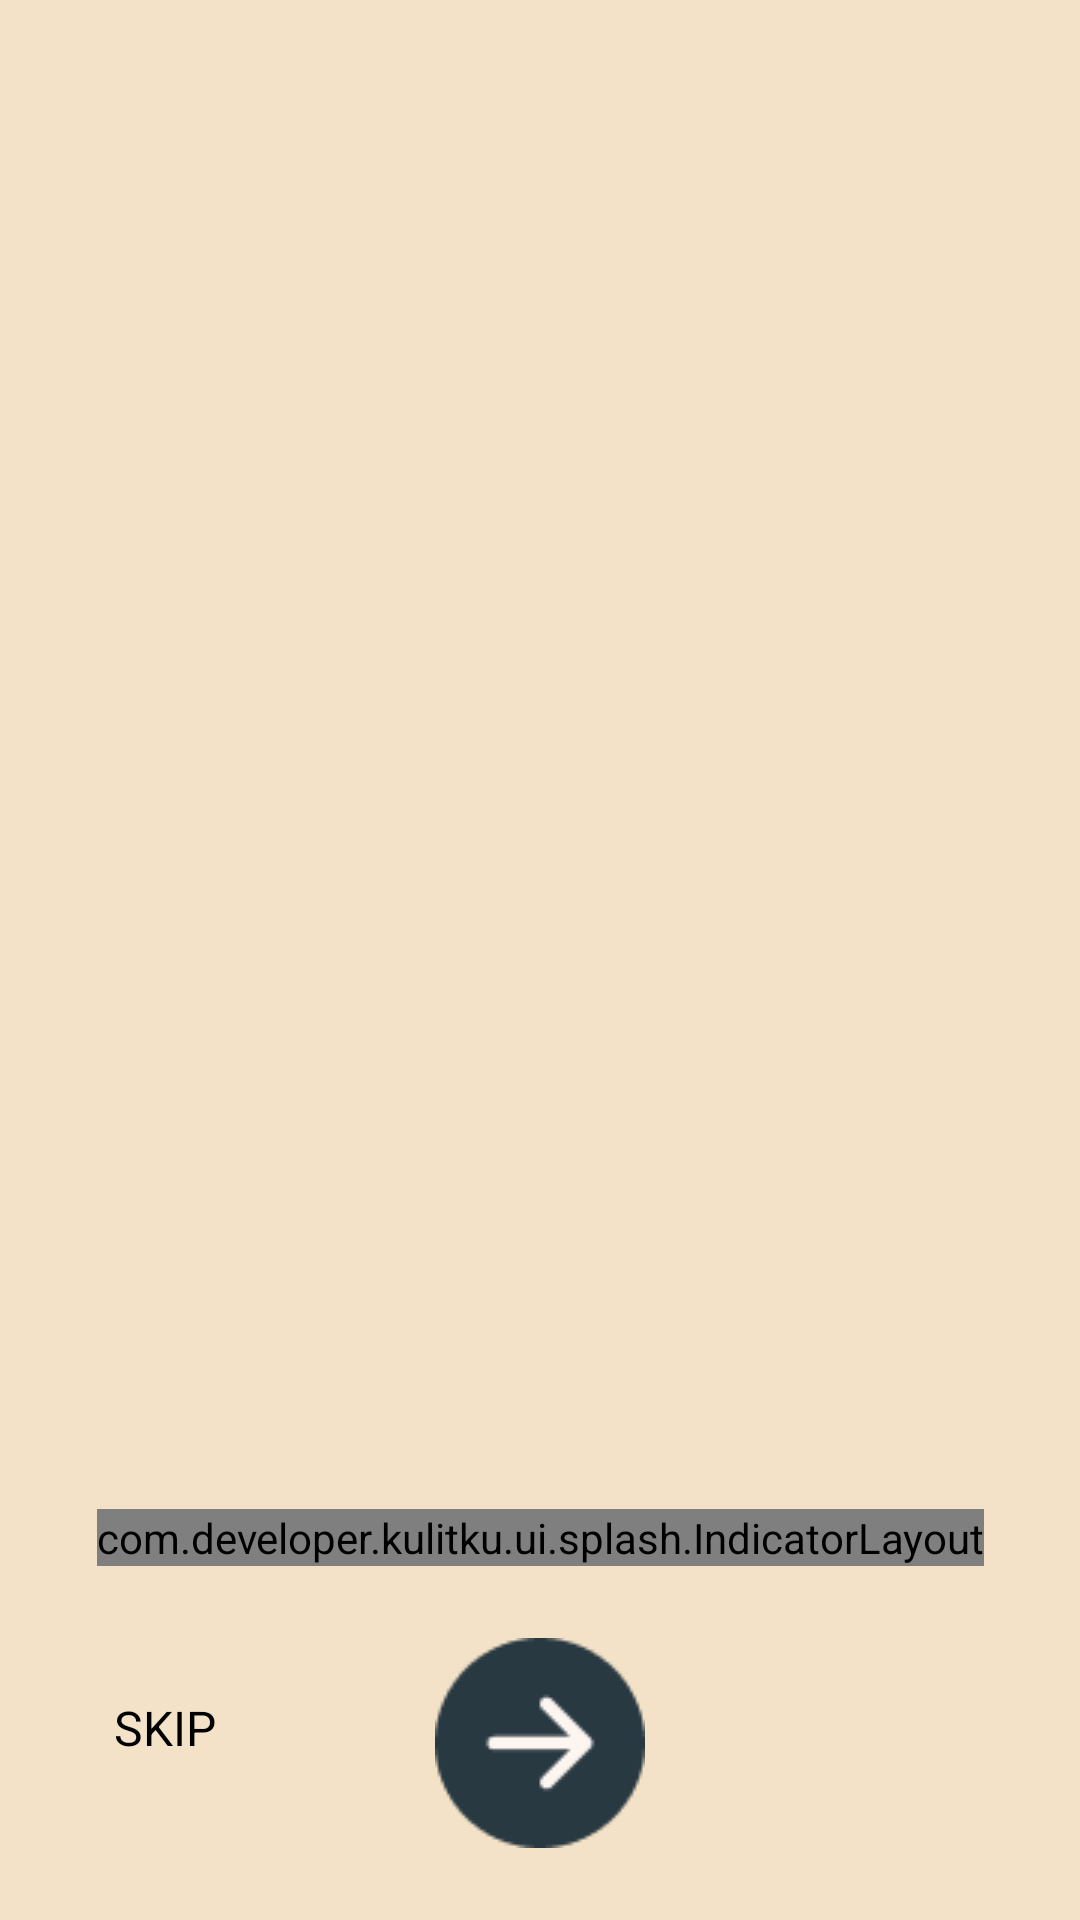

Icons on this 1080*1920 Android screen, each with the point to tap as (x,y):
next: (540,1743)
